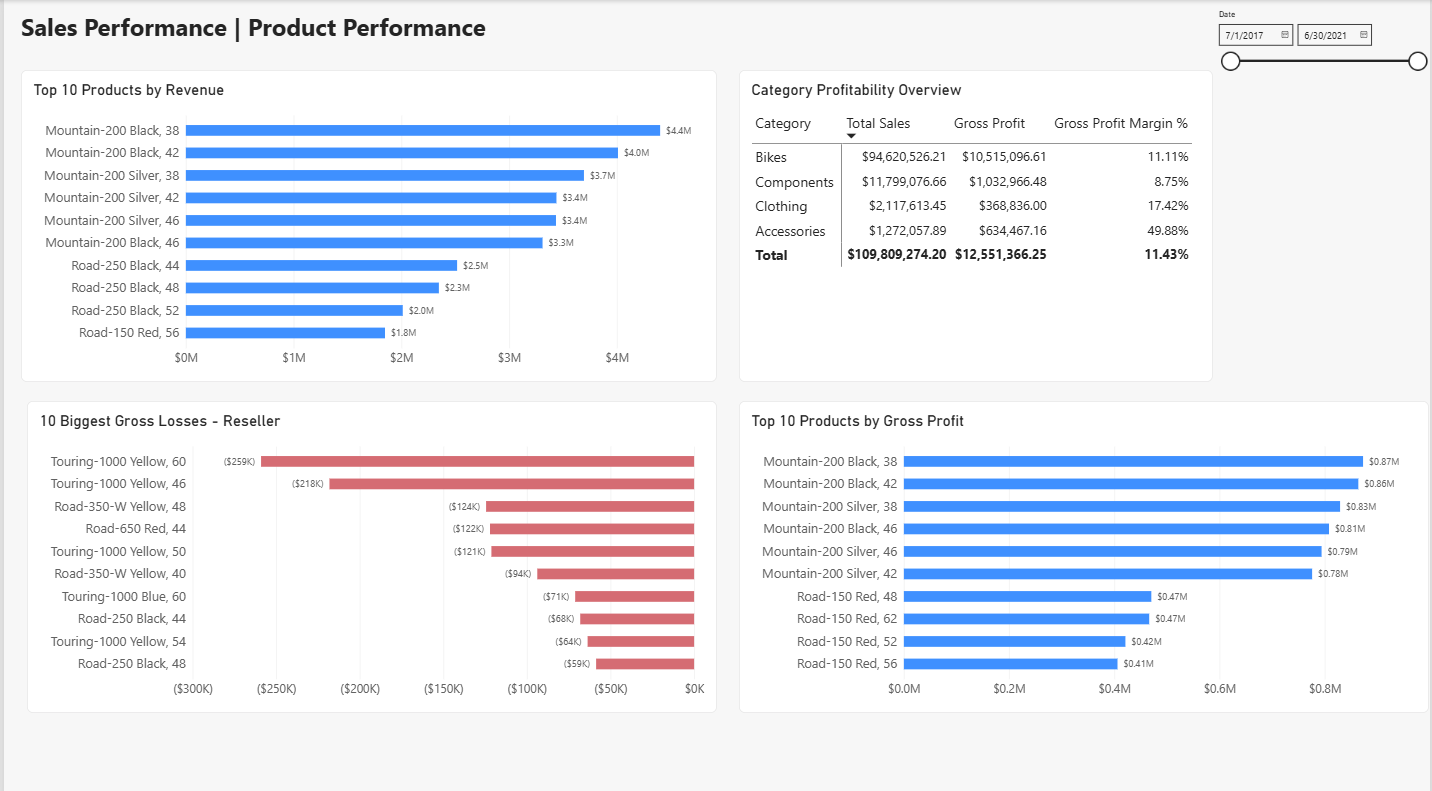

The dashboard page shown, as its layout file describes it:
{"tool":"powerbi","page":{"name":"Product Performance","canvas":[1920,1080],"ordinal":2},"visuals":[{"type":"pivotTable","title":"Category Profitability Overview","fields":{"Rows":["Product.Category"],"Values":["_Measures.Total Sales","_Measures.Gross Profit","_Measures.Gross Profit Margin %"]},"box":[989.8,94.3,638.3,420.1],"z":0},{"type":"clusteredBarChart","title":"Top 10 Products by Revenue","fields":{"Category":["Product.Product"],"Y":["_Measures.Total Sales"]},"box":[22.9,94.3,936.7,420.2],"z":1000},{"type":"clusteredBarChart","title":"Top 10 Products by Gross Profit","fields":{"Category":["Product.Product"],"Y":["_Measures.Gross Profit"]},"box":[989.8,540,929.4,420.2],"z":2000},{"type":"clusteredBarChart","title":"10 Biggest Gross Losses - Reseller","fields":{"Category":["Product.Product"],"Y":["_Measures.Gross Profit"]},"box":[31,540,929.4,420.2],"z":3000},{"type":"slicer","fields":{"Values":["Date.Date"]},"box":[1628.2,13.3,291.8,101.7],"z":4000},{"type":"textbox","box":[22.9,13.5,626.2,76.8],"z":4001}]}

Visuals, with their boxes in screenshot pixels (x1, y1, x2, y2), scaled from the page's 1920x1080 canvas onto the 1432x791 screenshot:
"Category Profitability Overview" pivotTable: (x1=738, y1=69, x2=1214, y2=377)
"Top 10 Products by Revenue" clusteredBarChart: (x1=17, y1=69, x2=716, y2=377)
"Top 10 Products by Gross Profit" clusteredBarChart: (x1=738, y1=396, x2=1431, y2=703)
"10 Biggest Gross Losses - Reseller" clusteredBarChart: (x1=23, y1=396, x2=716, y2=703)
slicer - Date.Date: (x1=1214, y1=10, x2=1431, y2=84)
textbox: (x1=17, y1=10, x2=484, y2=66)
